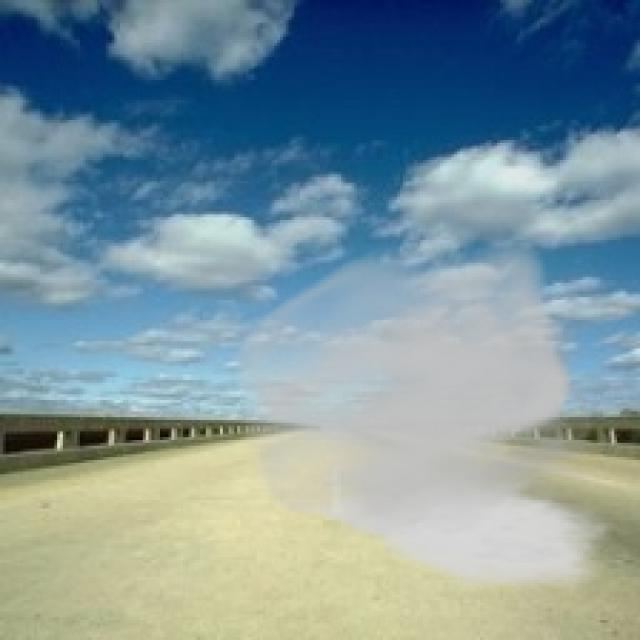smoke: (223, 240, 617, 594)
